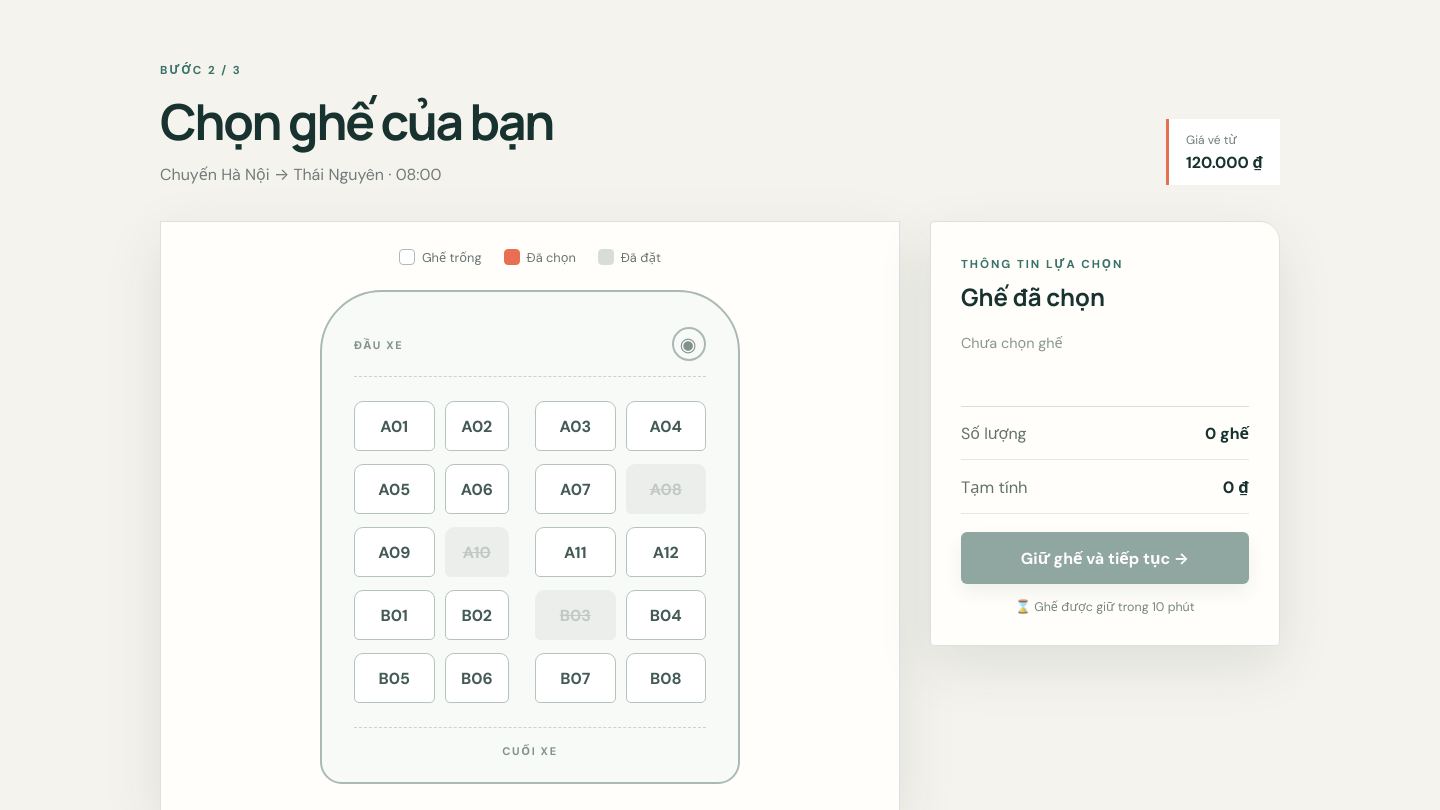
Scenario: SelectSeat › bắt đầu giữ chỗ với countdown 10 phút
Click the button named "Ghế A01 còn trống".
click(394, 426)  # box [354,401,434,451]
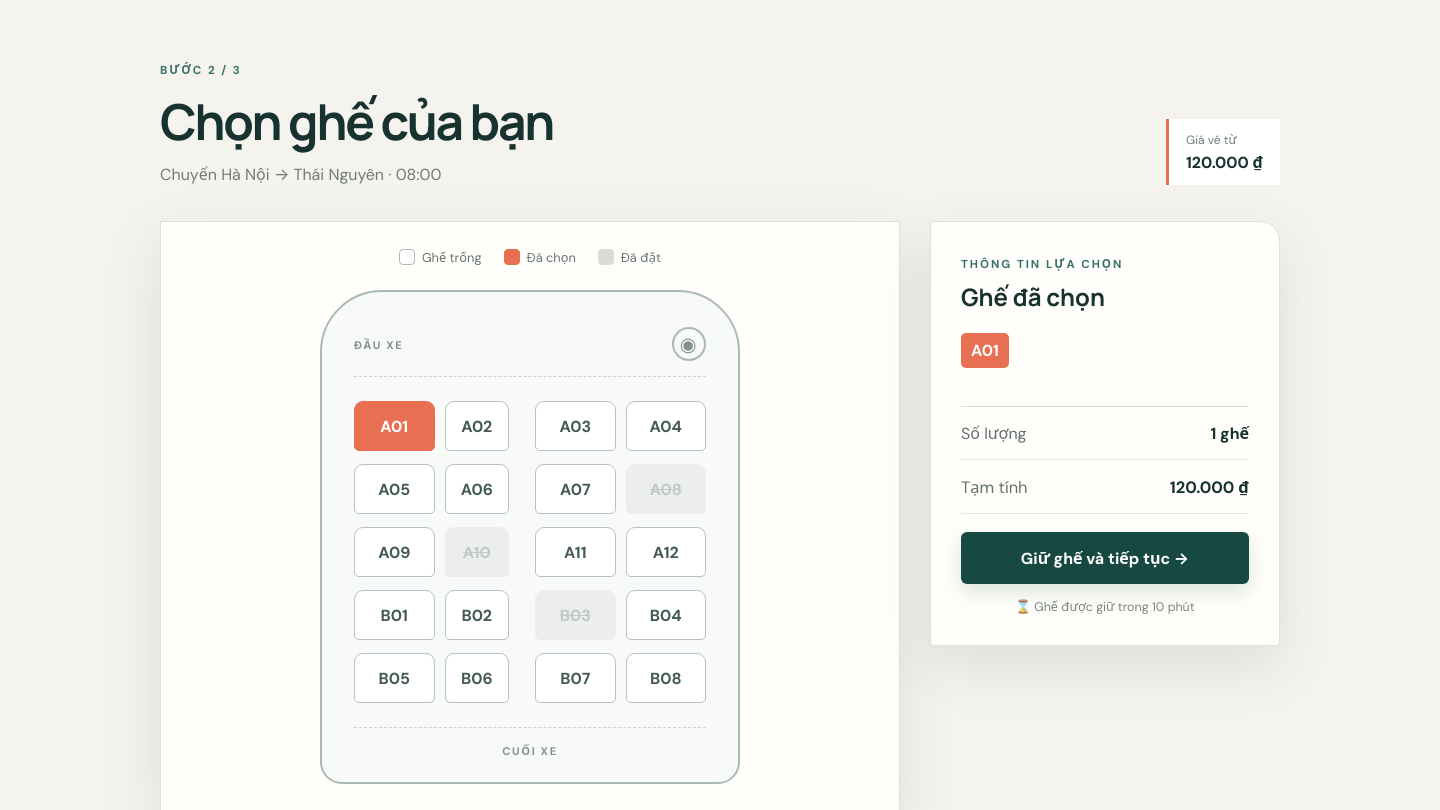
Click the button "Giữ ghế và tiếp tục →".
click(1105, 558)  # box [961,532,1249,584]
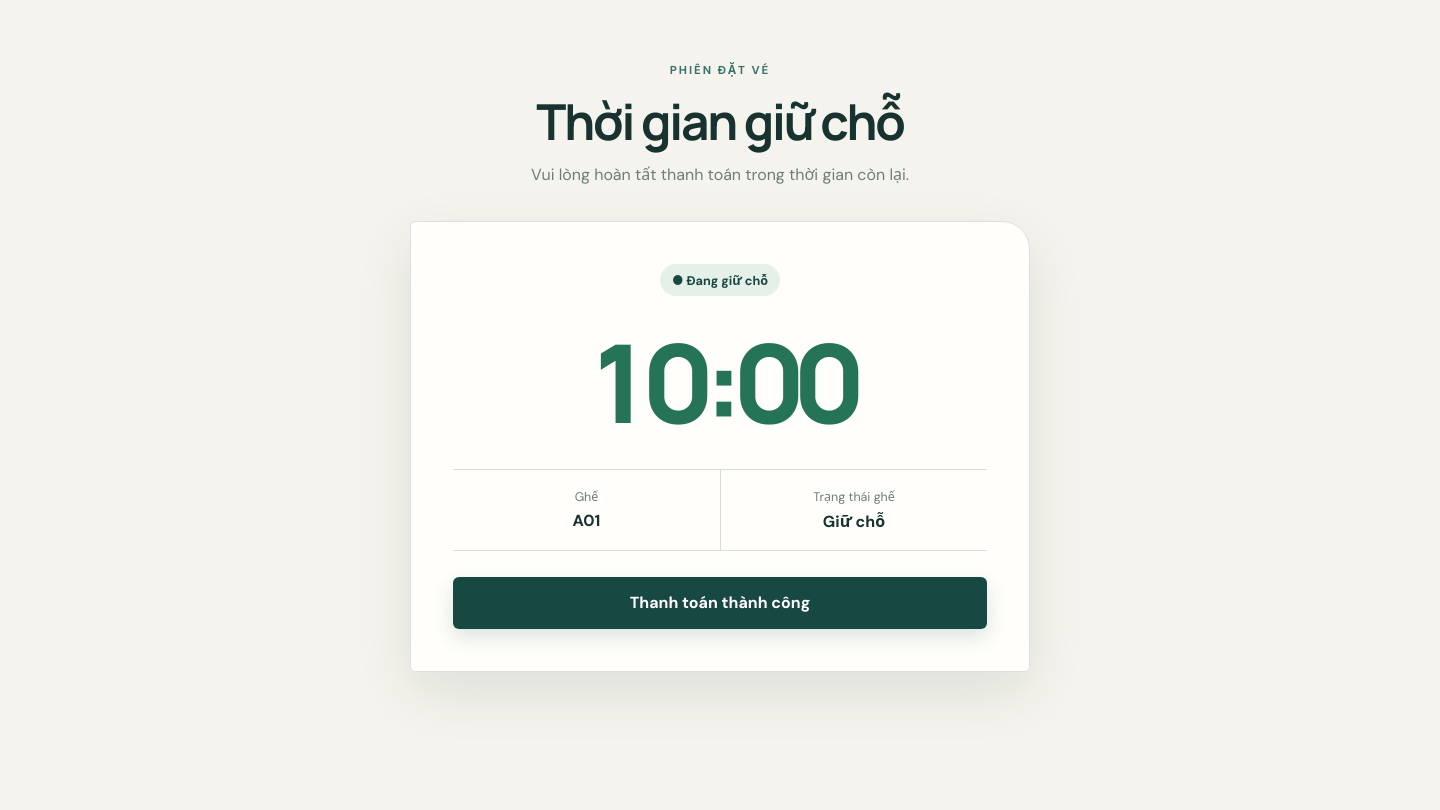
expect the text "10:00" is shown: met, box [585,307,855,456]
expect the text "Giữ chỗ" is shown: met, box [823,511,885,532]
